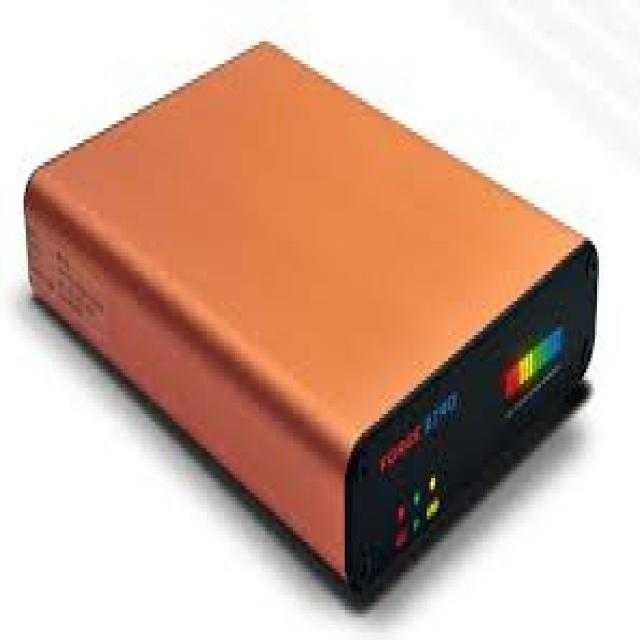portable-charger: (26, 38, 600, 624)
